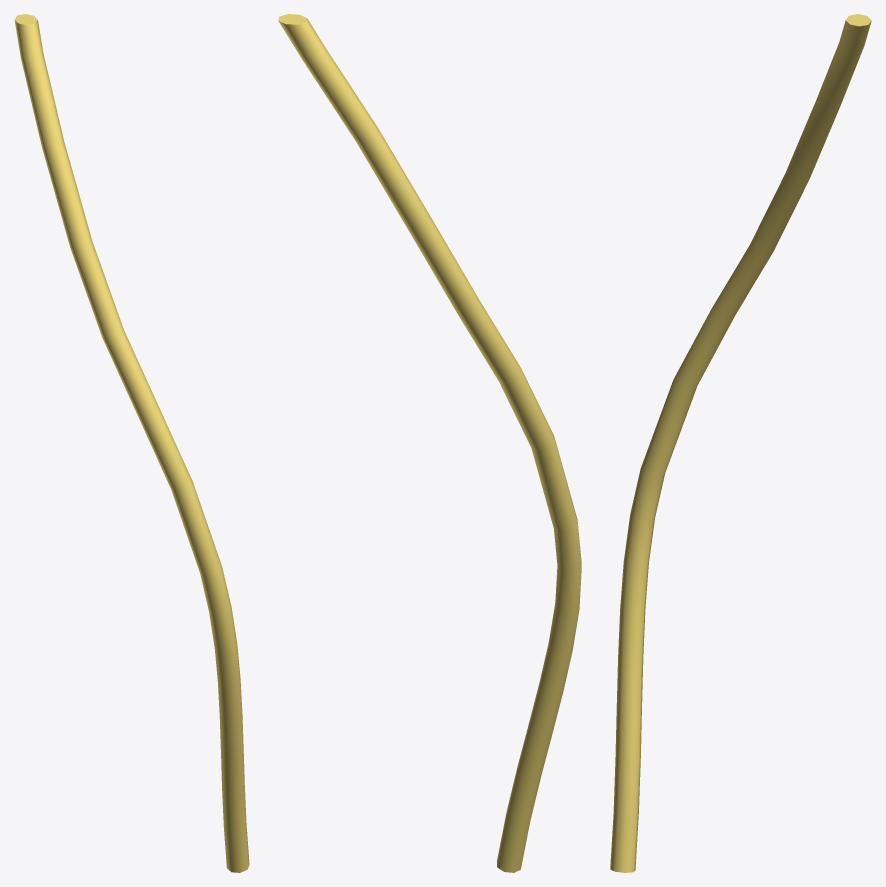
File: nerf-radial.glb
3 renders of one model, left to right at view 1: azimuth 90°, elevation 25°; view 2: azimuth 150°, elevation 25°; view 3: azimuth 270°, elevation 25°, orthographic. The views are drawn at different scales.
Parts seen in each view (by area): view 1: nerf-radial; view 2: nerf-radial; view 3: nerf-radial.
Boxes of the visible parts, x1=… form: nerf-radial: x1=14, y1=14, x2=249, y2=872; nerf-radial: x1=278, y1=14, x2=581, y2=872; nerf-radial: x1=610, y1=14, x2=871, y2=872.
Bounding box in the file's own units: 0.0255 × 0.1156 × 0.0305.
